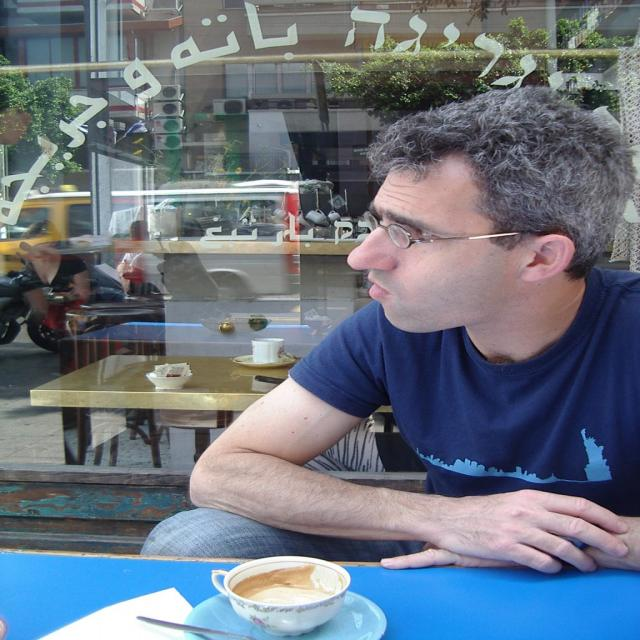Coffee: (235, 574, 332, 608)
